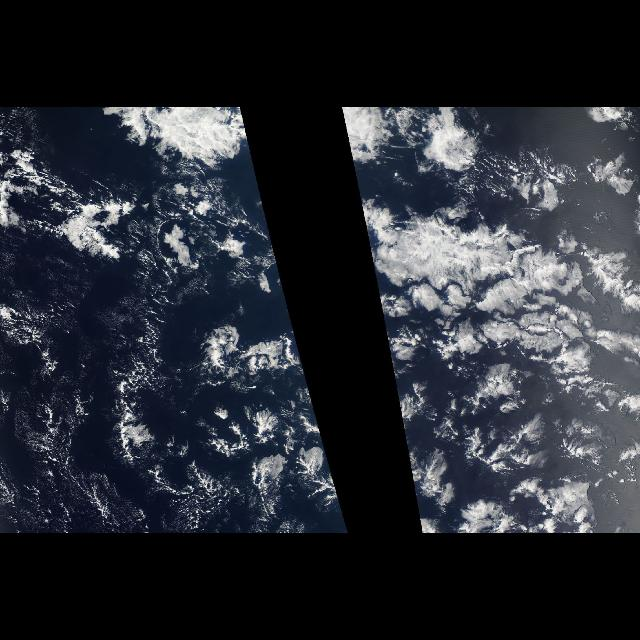Flower: (354, 162, 630, 530), (178, 234, 348, 526)
